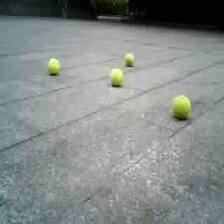tennis: (172, 94, 189, 117), (110, 69, 123, 85), (47, 59, 59, 73), (125, 53, 135, 66)
